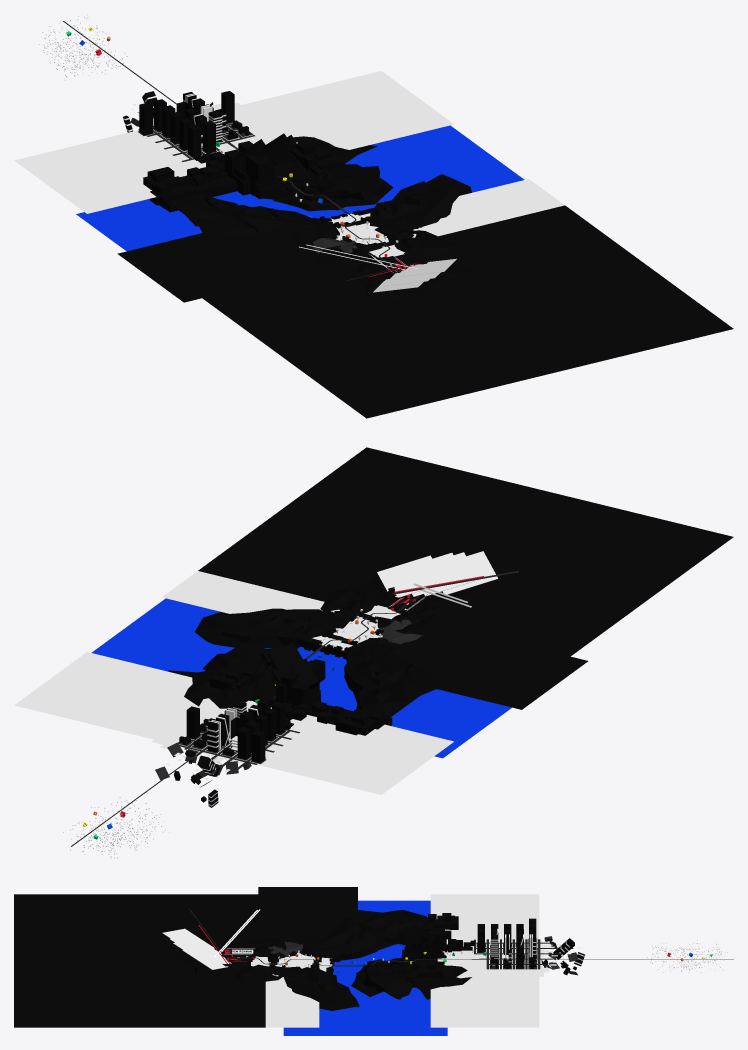
3 renders of one model, top to bottom at view 1: azimuth 30°, elevation 25°; view 2: azimuth 150°, elevation 25°; view 3: azimuth 270°, elevation 25°, orthographic. The views are drawn at different scales.
Visible parts, largest first — view 1: Plane, Cube.067, Rock.001, Plane.003, Rock.057, Mountain2.015, Plane.002, Mountain2.013, Mountain2.007, Mountain1.001, Cube.032, Plane.051 (+5 smaller); view 2: Plane, Cube.067, Rock.001, Plane.003, Mountain2.015, Rock.057, Plane.002, Mountain2.007, Plane.051, Mountain2.013, Mountain1.001, Cube.032 (+5 smaller); view 3: Plane, Cube.067, Rock.001, Plane.003, Mountain2.015, Plane.002, Mountain2.013, Rock.057, Mountain2.007, Mountain1.001, Plane.051, Road.037 (+9 smaller).
Part boxes in pixels (x1,y1,x2,y2): Plane: [202, 205, 733, 418]; Cube.067: [14, 71, 453, 213]; Rock.001: [76, 125, 524, 251]; Plane.003: [117, 233, 333, 302]; Rock.057: [143, 133, 296, 212]; Mountain2.015: [159, 191, 339, 245]; Plane.002: [336, 179, 564, 248]; Mountain2.013: [263, 136, 393, 211]; Mountain2.007: [370, 174, 471, 229]; Mountain1.001: [374, 216, 473, 279]; Cube.032: [153, 99, 202, 157]; Plane.051: [373, 258, 456, 292]; Plane: [198, 447, 733, 656]; Cube.067: [14, 652, 453, 794]; Rock.001: [91, 598, 511, 758]; Plane.003: [389, 624, 588, 709]; Mountain2.015: [344, 637, 446, 718]; Rock.057: [262, 642, 392, 735]; Plane.002: [162, 571, 382, 643]; Mountain2.007: [195, 608, 336, 648]; Plane.051: [377, 551, 498, 597]; Mountain2.013: [168, 643, 274, 708]; Mountain1.001: [309, 574, 396, 628]; Cube.032: [236, 702, 286, 760]; Plane: [14, 894, 265, 1027]; Cube.067: [430, 894, 539, 1027]; Rock.001: [283, 900, 447, 1035]; Plane.003: [258, 887, 357, 946]; Mountain2.015: [299, 909, 428, 960]; Plane.002: [265, 952, 319, 1027]; Mountain2.013: [351, 959, 471, 999]; Rock.057: [399, 913, 472, 958]; Mountain2.007: [283, 967, 359, 1010]; Mountain1.001: [194, 964, 306, 984]; Plane.051: [162, 928, 231, 969]; Road.037: [474, 939, 573, 969].
Bounding box in the file's own units: 227 × 43.98 × 487.
723 materials, 15 textured.
